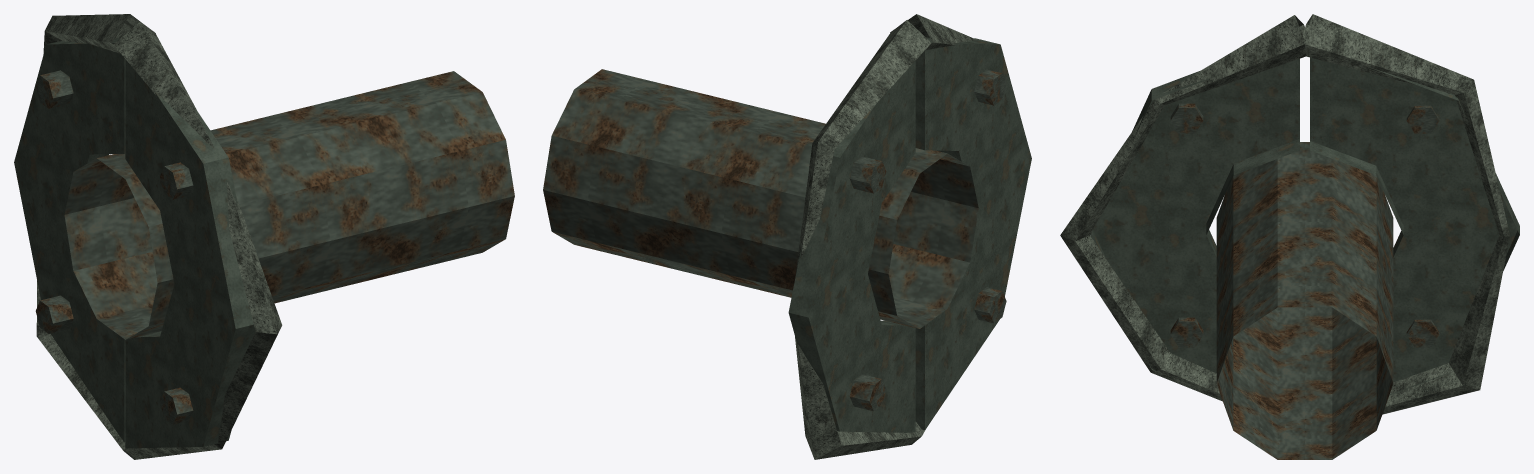
File: SM_Pipe_WallPen.fbx
3 views of the same model, side by side, from view 1: azimuth 30°, elevation 25°; view 2: azimuth 150°, elevation 25°; view 3: azimuth 270°, elevation 25° (orthographic). The views are drawn at different scales.
Parts seen in each view (by area): view 1: SM_Pipe_WallPen; view 2: SM_Pipe_WallPen; view 3: SM_Pipe_WallPen.
Boxes of the visible parts, <box> form: SM_Pipe_WallPen: <box>14,14,514,459</box>; SM_Pipe_WallPen: <box>543,14,1031,459</box>; SM_Pipe_WallPen: <box>1060,14,1519,459</box>.
Size of the model in its own units: 0.314 by 0.367 by 0.3637.
